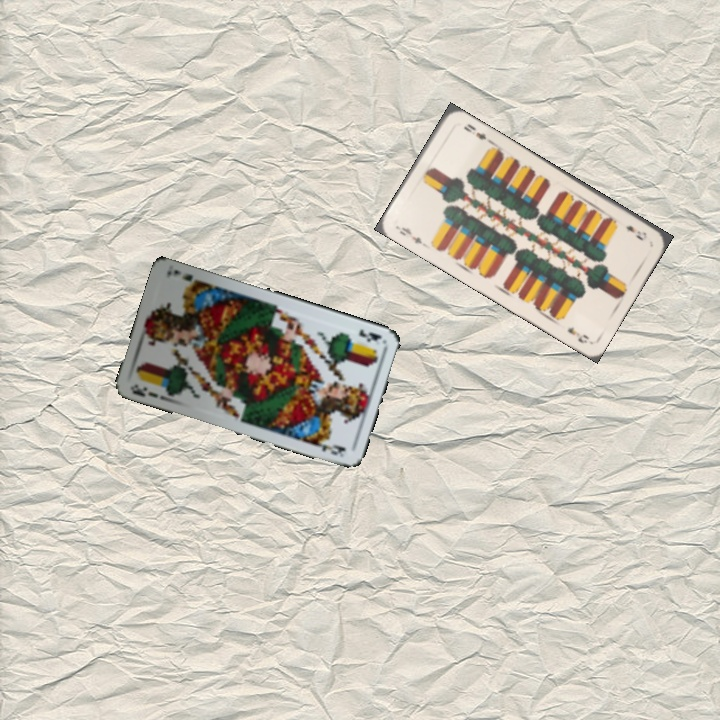E9: (392, 222, 425, 246), (621, 221, 649, 243)
EK: (128, 380, 160, 400), (355, 325, 384, 344)
